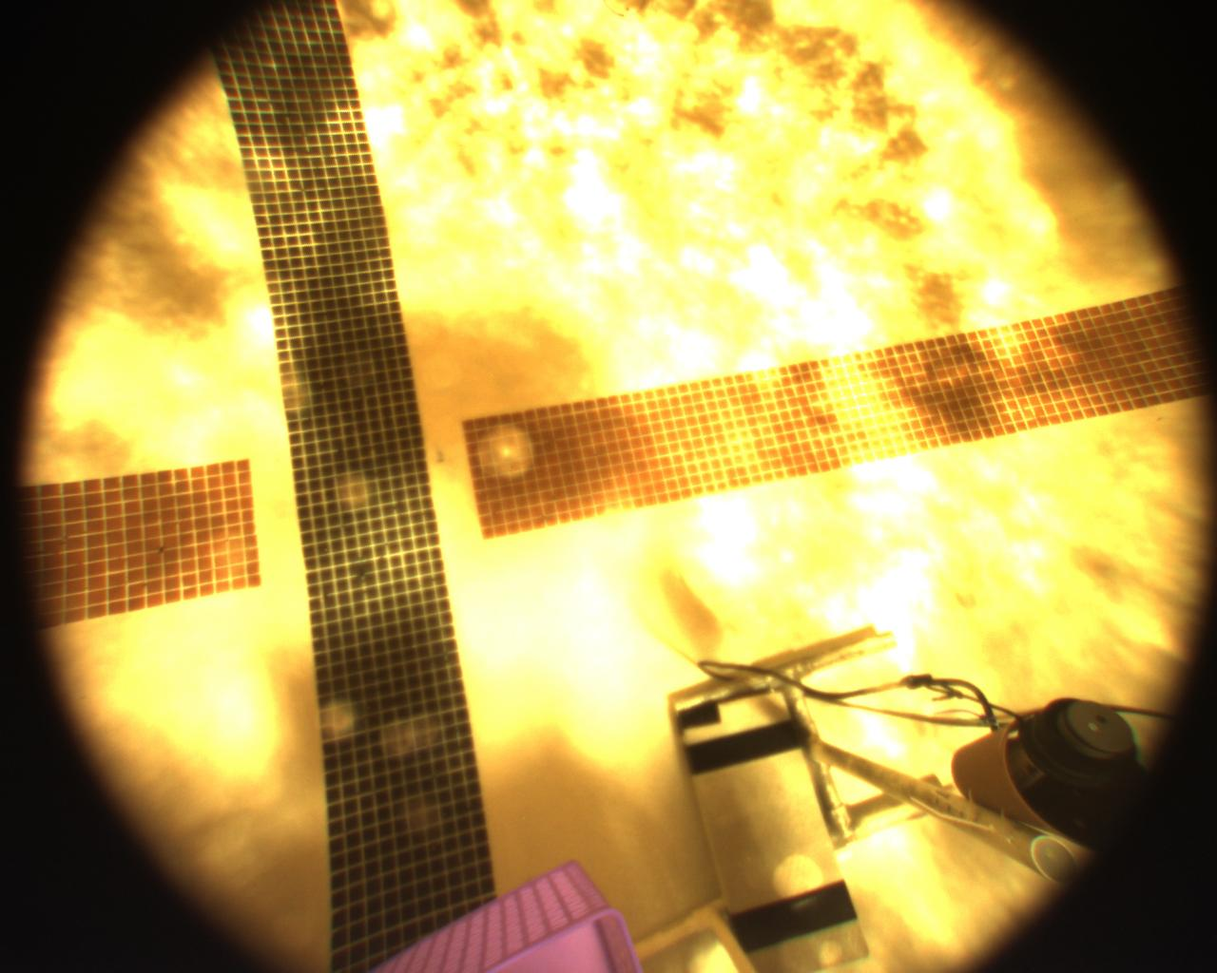coral-box-top: (362, 855, 645, 971)
